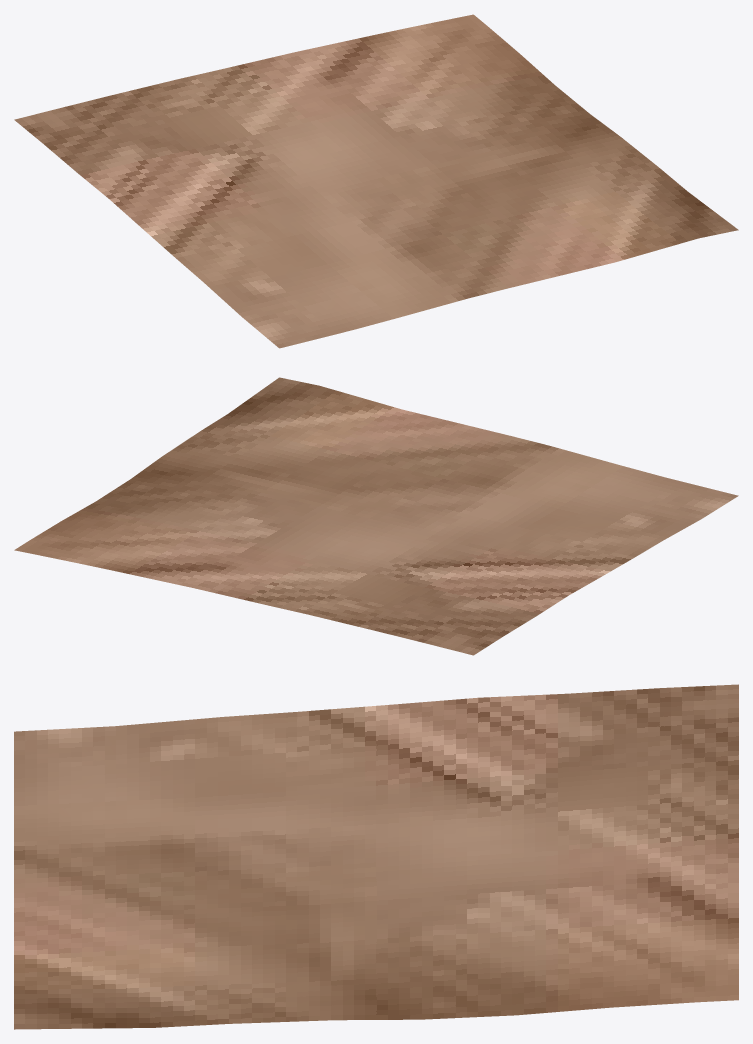
The picture shows the model from 3 angles, top to bottom: view 1: azimuth 30°, elevation 25°; view 2: azimuth 150°, elevation 25°; view 3: azimuth 270°, elevation 25°; orthographic projection. The views are drawn at different scales.
Bounding box in the file's own units: 8 × 0.5849 × 8.
1 material, 1 textured.
